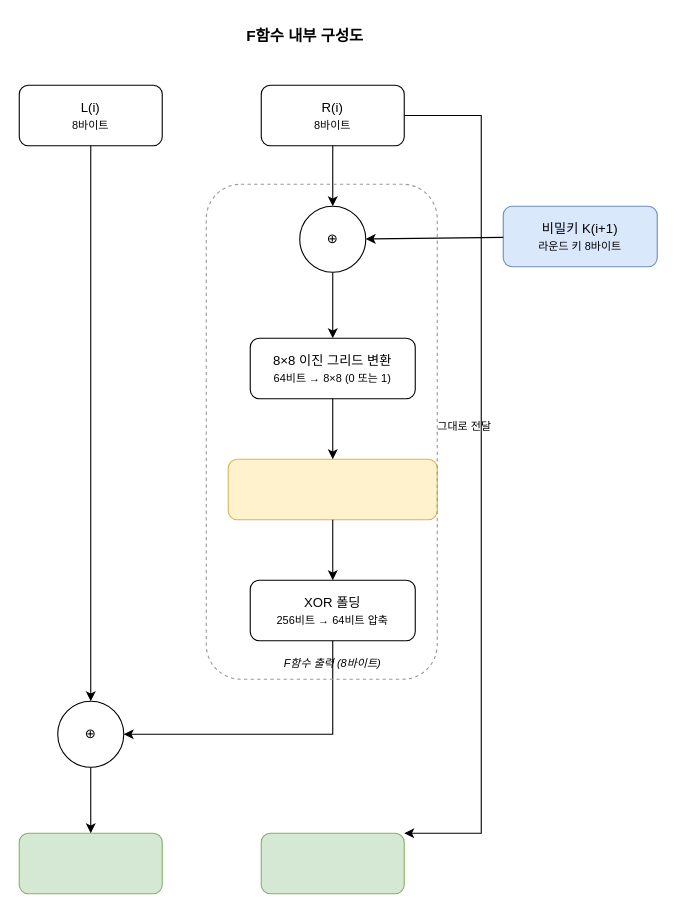
This 677x913 diagram has some shape labels left out. Each missing label, with the box of its shape:
F 함수 (라운드 함수): (205, 183, 437, 679)
새 L(i+1) = R(i) 그대로: (260, 832, 404, 894)
새 R(i+1) = L(i) ⊕ F(R(i), K(i+1)): (18, 832, 162, 894)
지뢰찾기 인접 숫자 변환 1=지뢰(→0xF), 0=안전(→인접 수 0~8): (227, 458, 437, 520)
